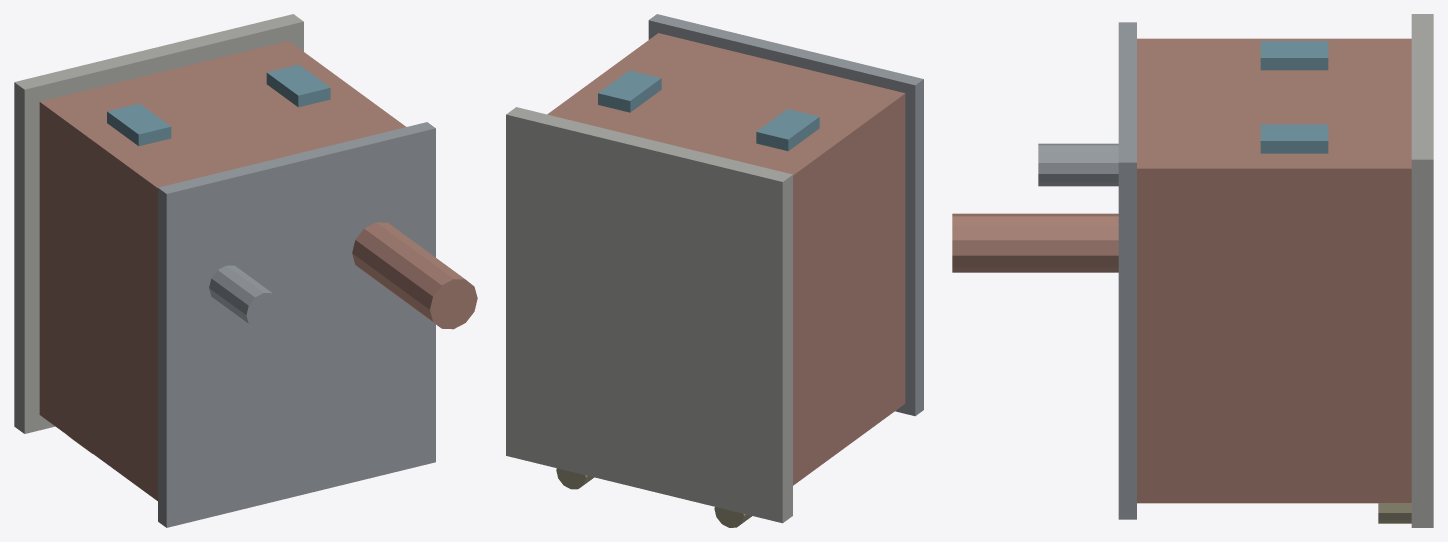
File: AGE_IV_industrial.glb
The picture shows the model from 3 angles, left to right: view 1: azimuth 30°, elevation 25°; view 2: azimuth 150°, elevation 25°; view 3: azimuth 270°, elevation 25°; orthographic projection. The views are drawn at different scales.
Parts seen in each view (by area): view 1: world; view 2: world; view 3: world.
Part boxes in pixels (x1,y1,x2,y2): world: [14, 14, 477, 527]; world: [506, 14, 923, 527]; world: [952, 14, 1433, 527].
Size of the model in its own units: 5.6 by 7.05 by 7.82.
